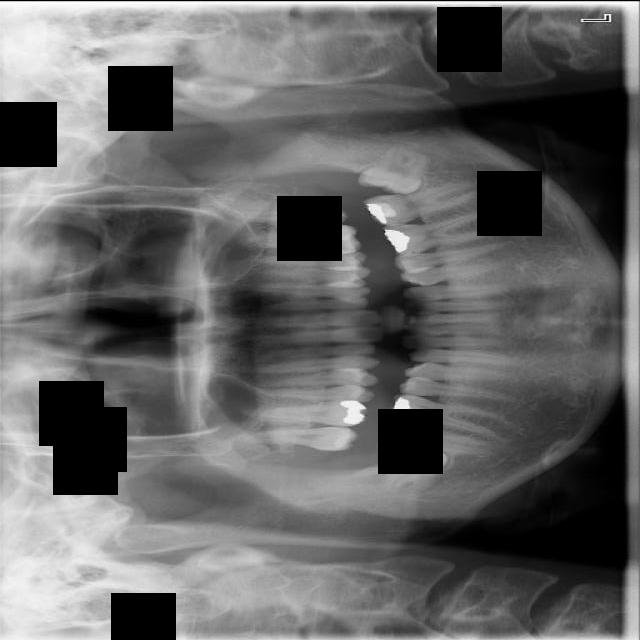52: (357, 184, 417, 239), (298, 190, 350, 232), (379, 214, 423, 263), (384, 387, 429, 431), (316, 219, 364, 257), (376, 421, 418, 452), (325, 399, 367, 426)
73: (620, 6, 626, 14)
BioHorizons Implant: (220, 196, 348, 226)
Biomet 3i Implant: (355, 132, 433, 203)
Blue Sky Bio Implant: (362, 178, 480, 230)
Caries: (223, 424, 359, 455)
Implant: (375, 421, 489, 455)
Keystone Dental Implant: (380, 445, 452, 500)
